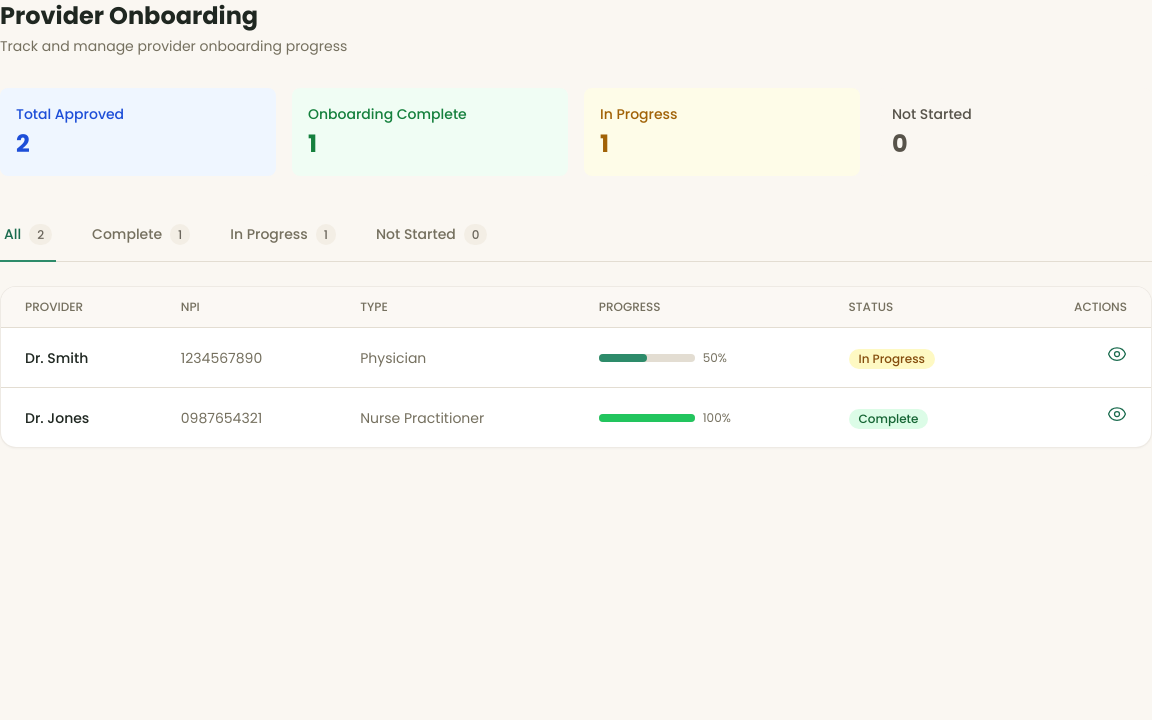
Scenario: OnboardingProgress › opens review modal and shows documents with details
Check: the text "Dr. Smith" is shown, box left=1, top=328, right=157, bottom=388
Click the button without text in the row of "Dr. Smith".
click(1117, 354)  # box left=1107, top=344, right=1127, bottom=364
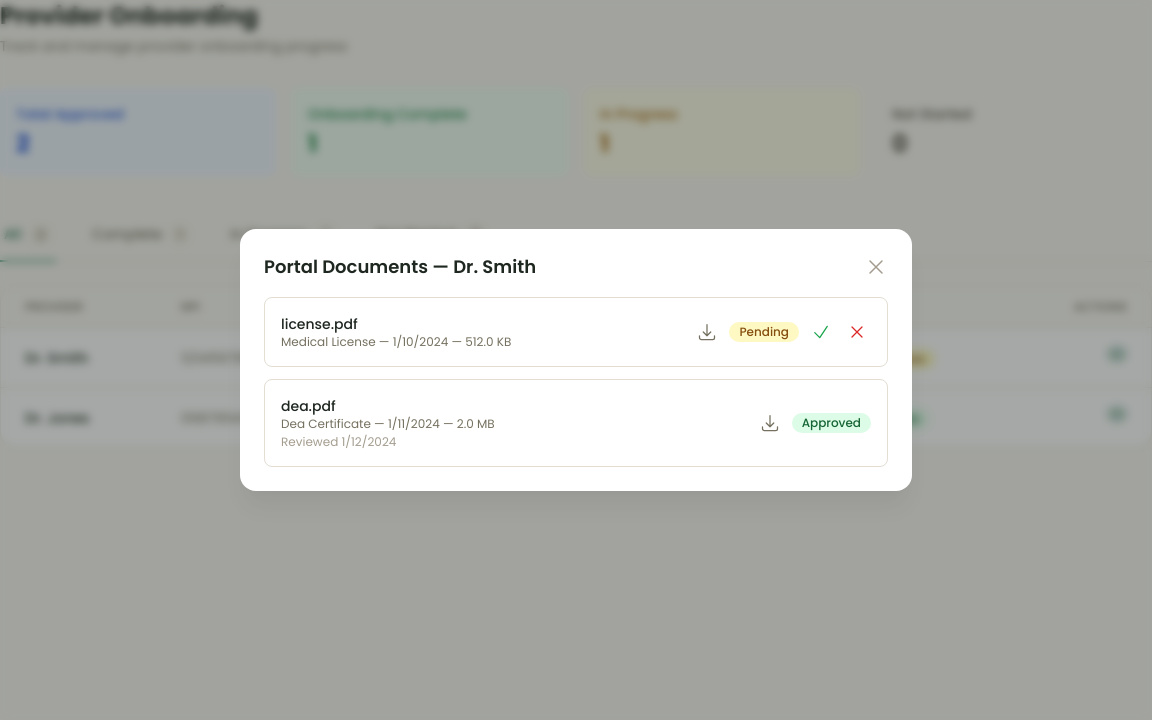
Check: the heading "Portal Documents — Dr. Smith" is shown, box left=264, top=253, right=536, bottom=281
Check: the text "license.pdf" is shown, box left=281, top=314, right=358, bottom=334
Check: the text "medical license — 1/10/2024 — 512.0 KB" is shown, box left=281, top=334, right=511, bottom=350
